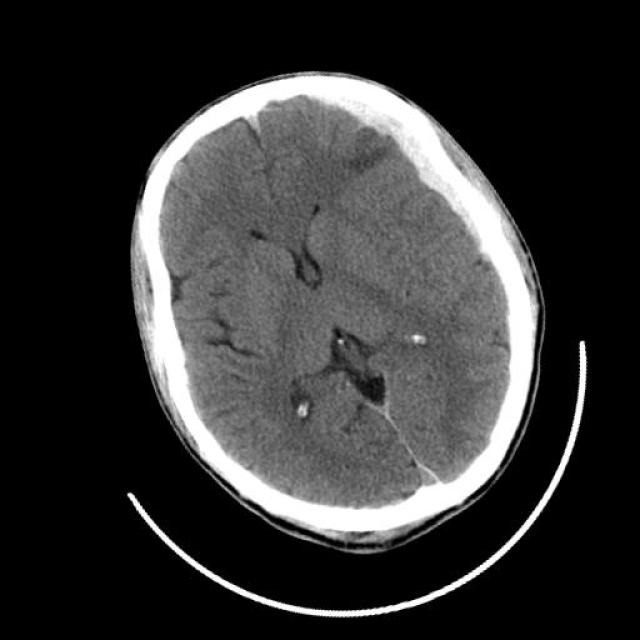Subdural: (295, 43, 524, 346)
